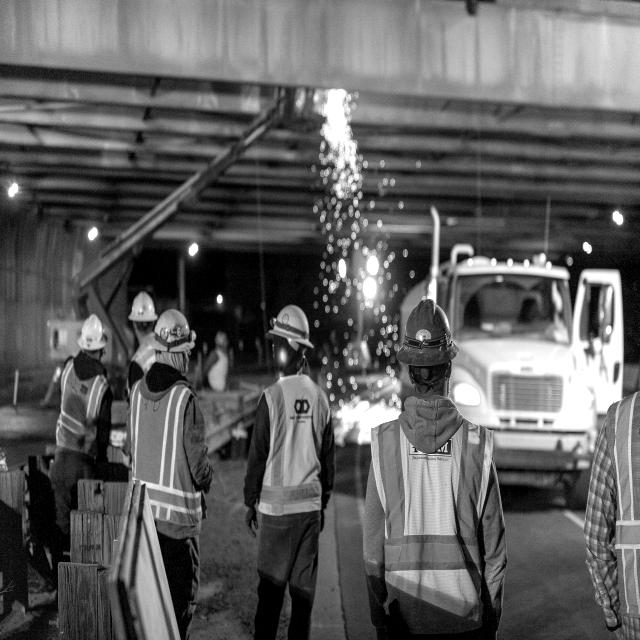Vest: (371, 421, 492, 617), (597, 393, 640, 633), (135, 379, 200, 526), (264, 378, 325, 511), (58, 359, 105, 459)
